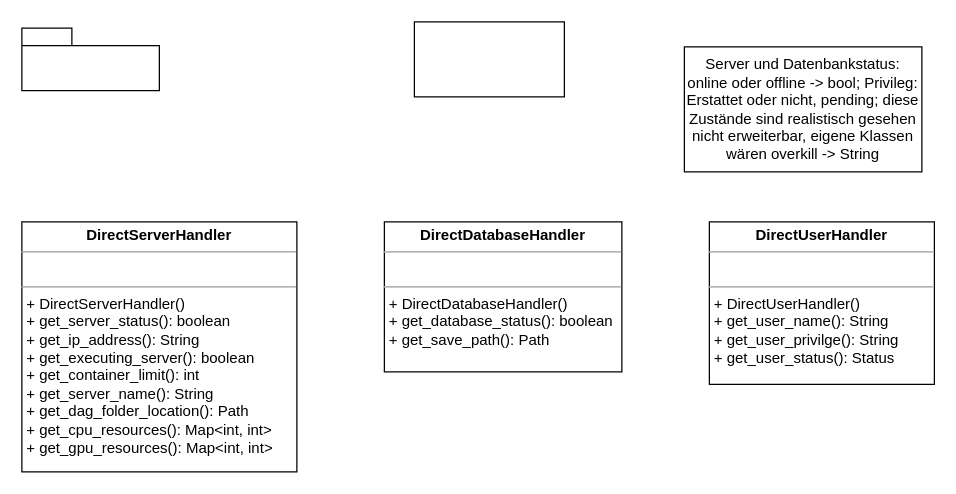
The diagram is 956 pixels wide and 494 high, and some of its shapes have lost their labels. The box of each missing label's shape, as (x1, y1, x2, y2) in pixels:
Das hier sind alles Fassaden: (413, 21, 564, 97)
DirectHandler: (21, 27, 159, 91)
